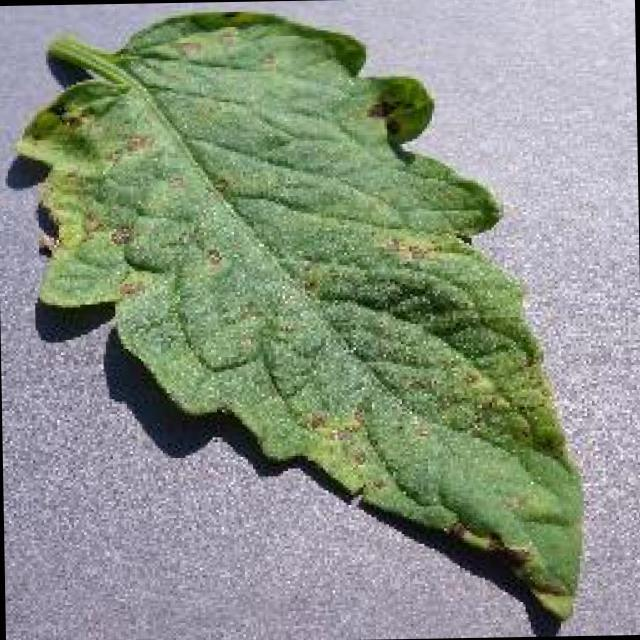Tomato Septoria spot leaf: (12, 6, 586, 630)
